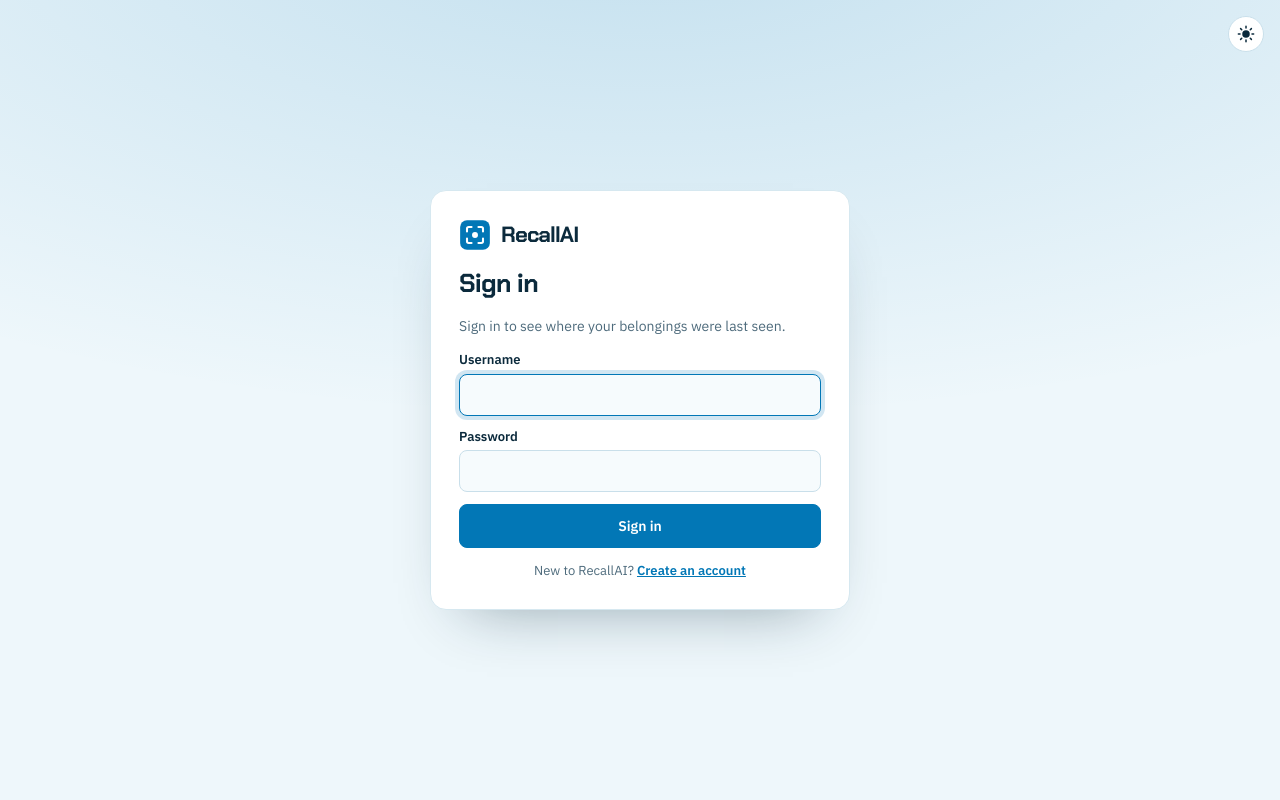
it: auth gate › client-side validation is announced and nothing is sent
Click the button "Create an account".
click(691, 572)  # box left=637, top=562, right=746, bottom=581
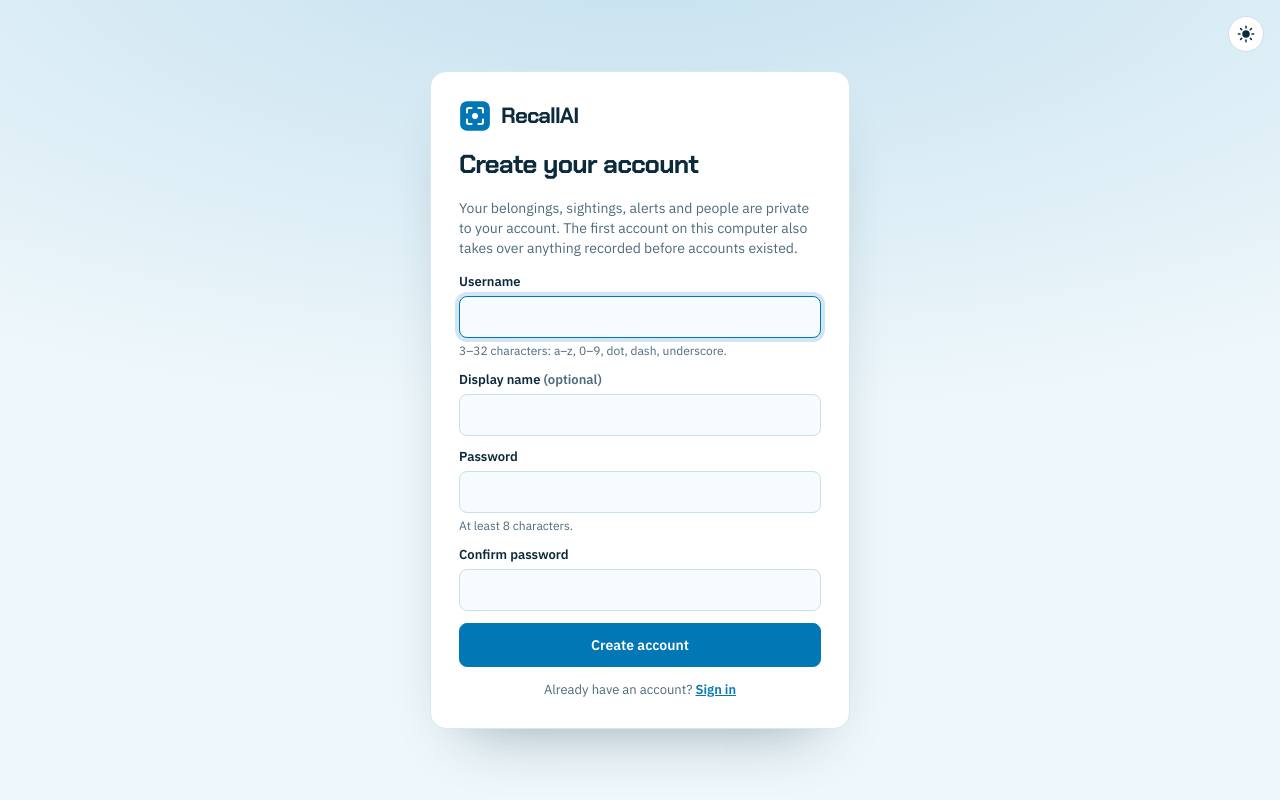
Type "ab" into the field labelled "Username".
click(640, 317); type("ab")  # box left=459, top=296, right=821, bottom=338
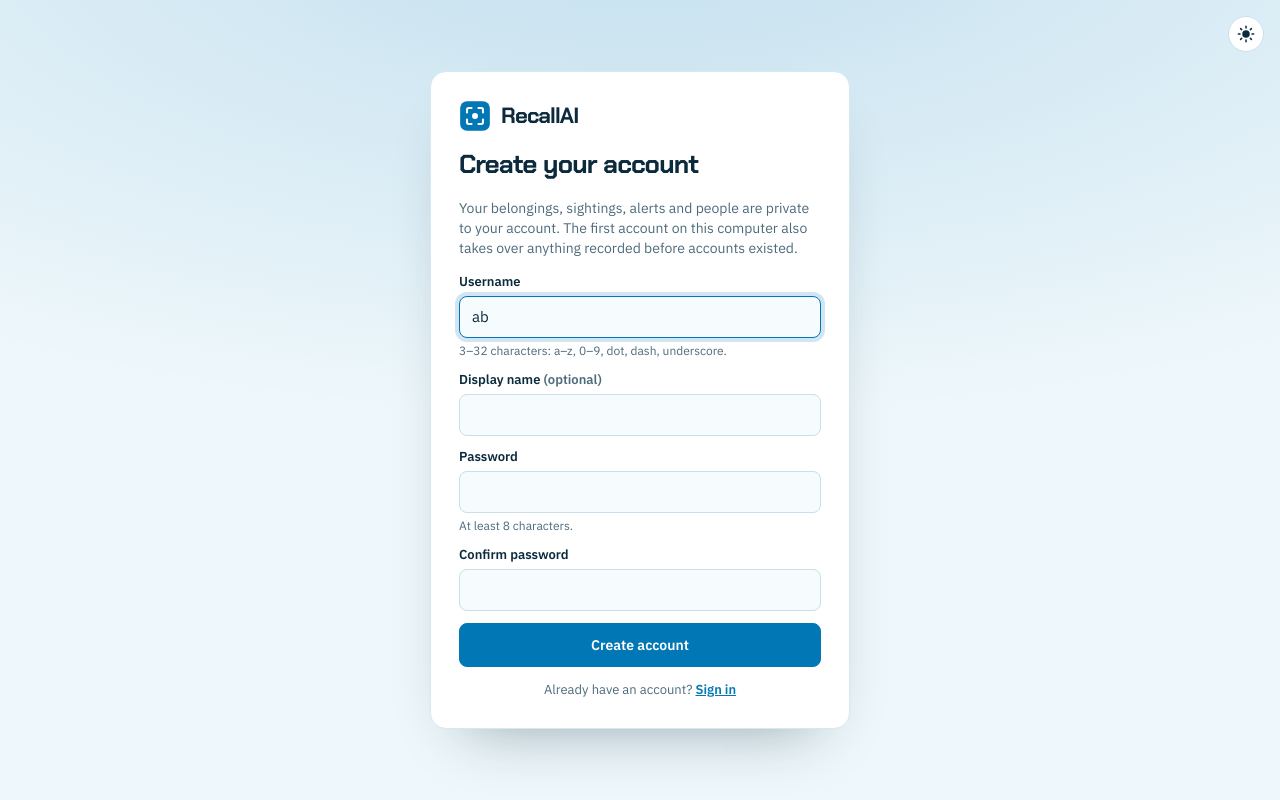
Type "short" into the password field labelled "Password".
click(640, 492); type("short")  # box left=459, top=471, right=821, bottom=513
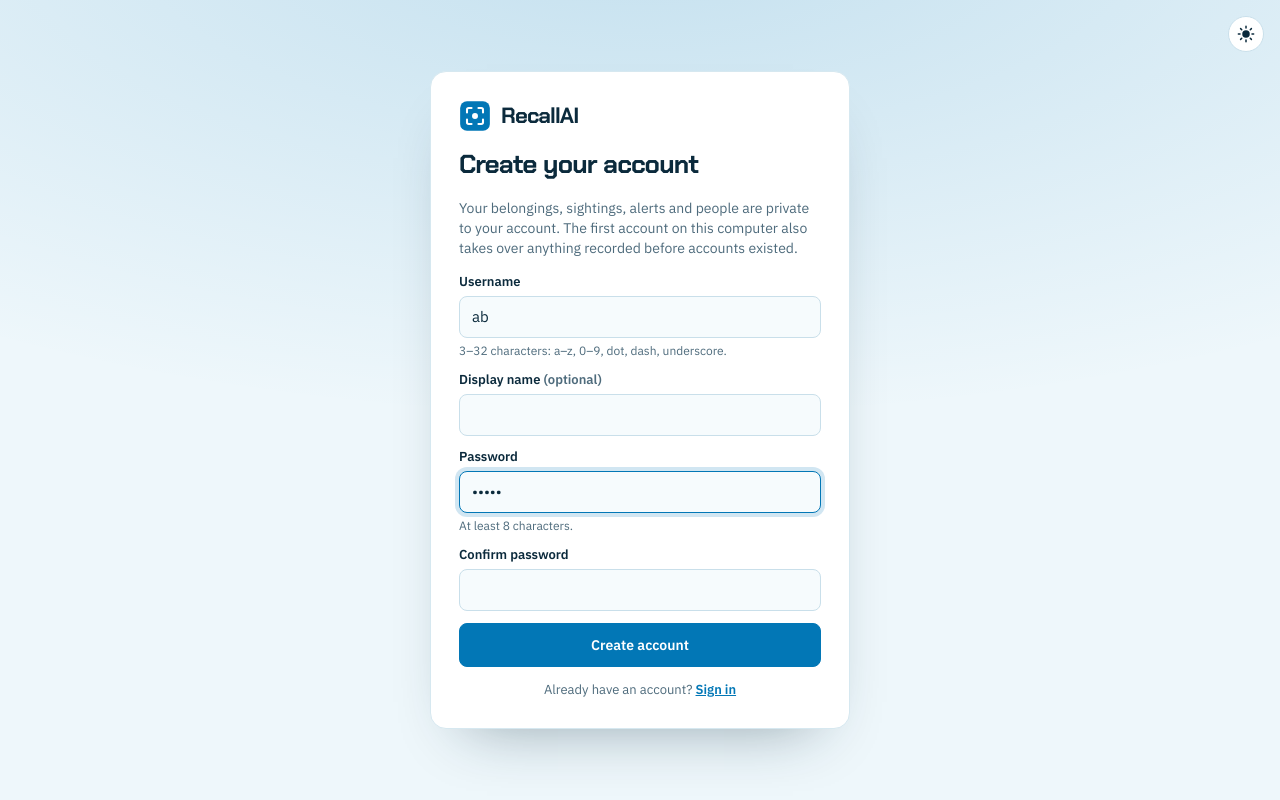
Type "short" into the password field labelled "Confirm password".
click(640, 590); type("short")  # box left=459, top=569, right=821, bottom=611
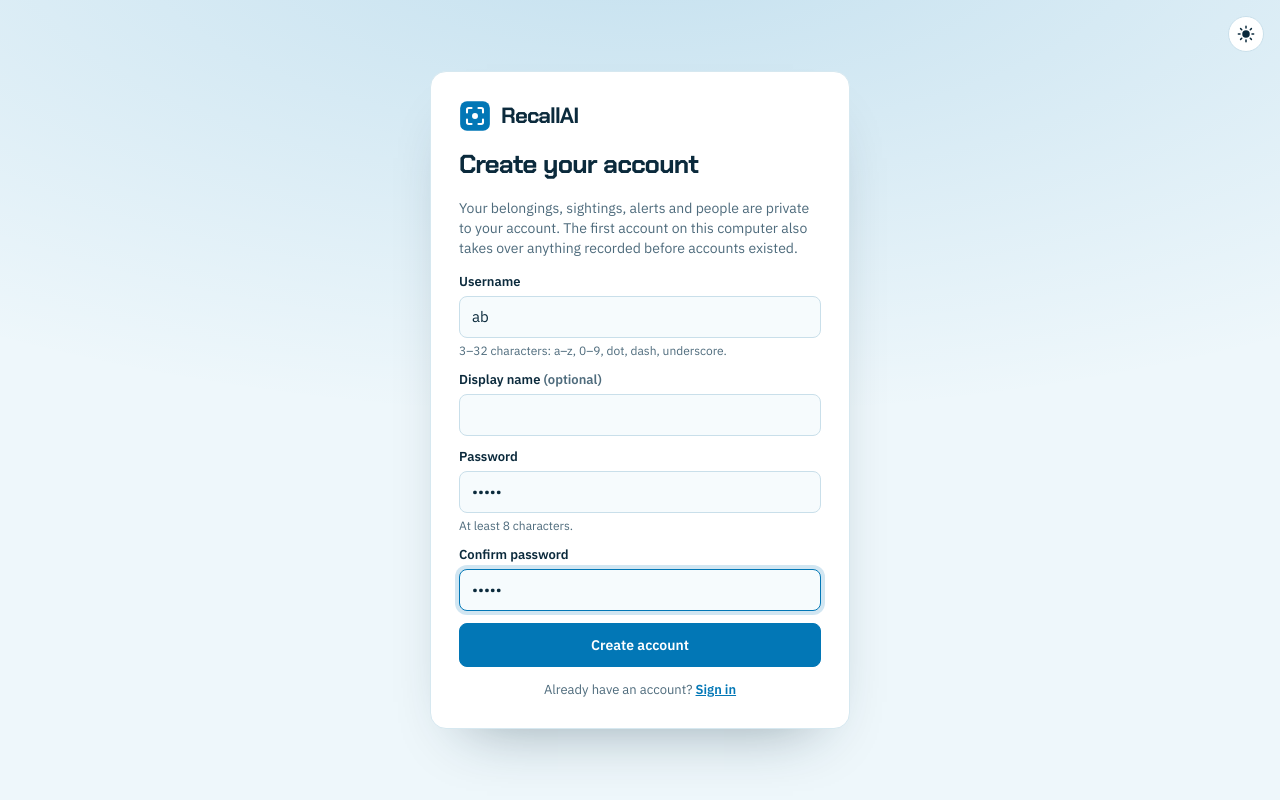
Click the button "Create account".
click(640, 645)  # box left=459, top=623, right=821, bottom=667
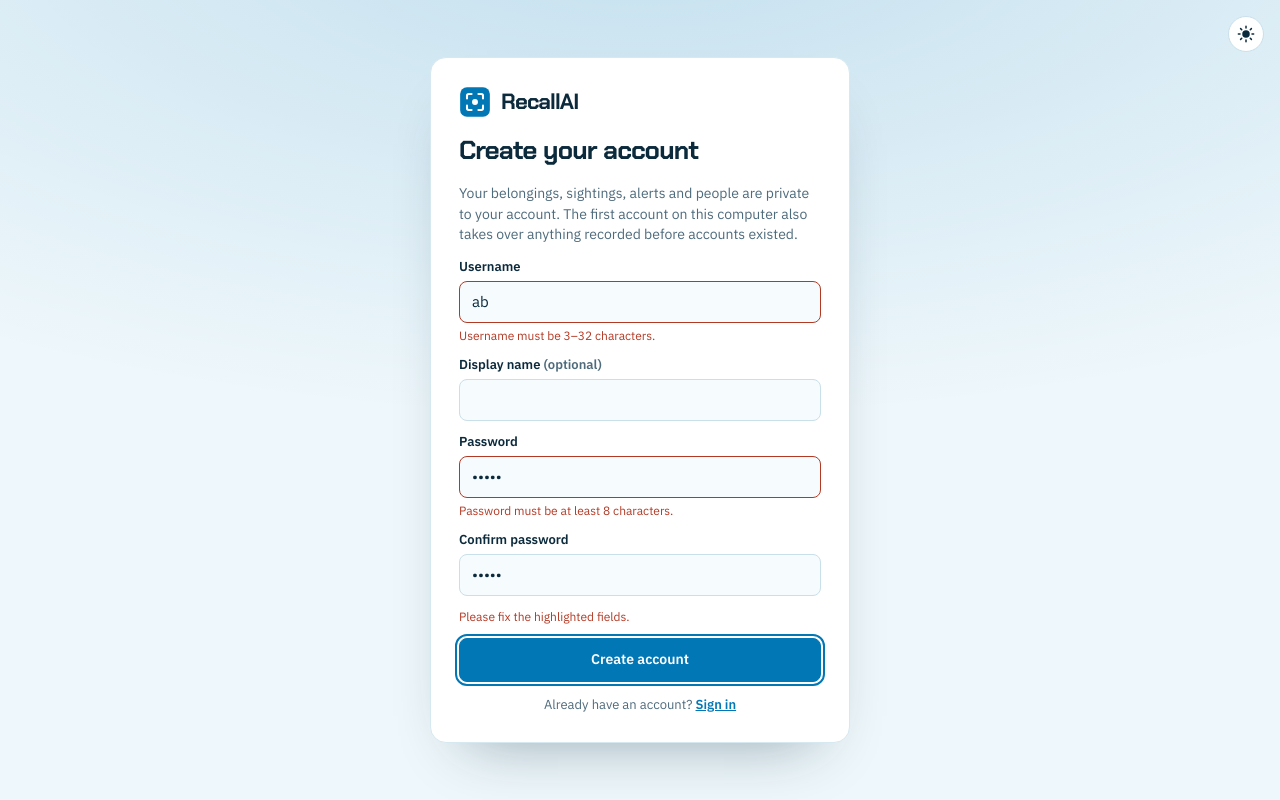
Now the message reads "Please fix the highlighted fields.", box left=459, top=609, right=630, bottom=624
